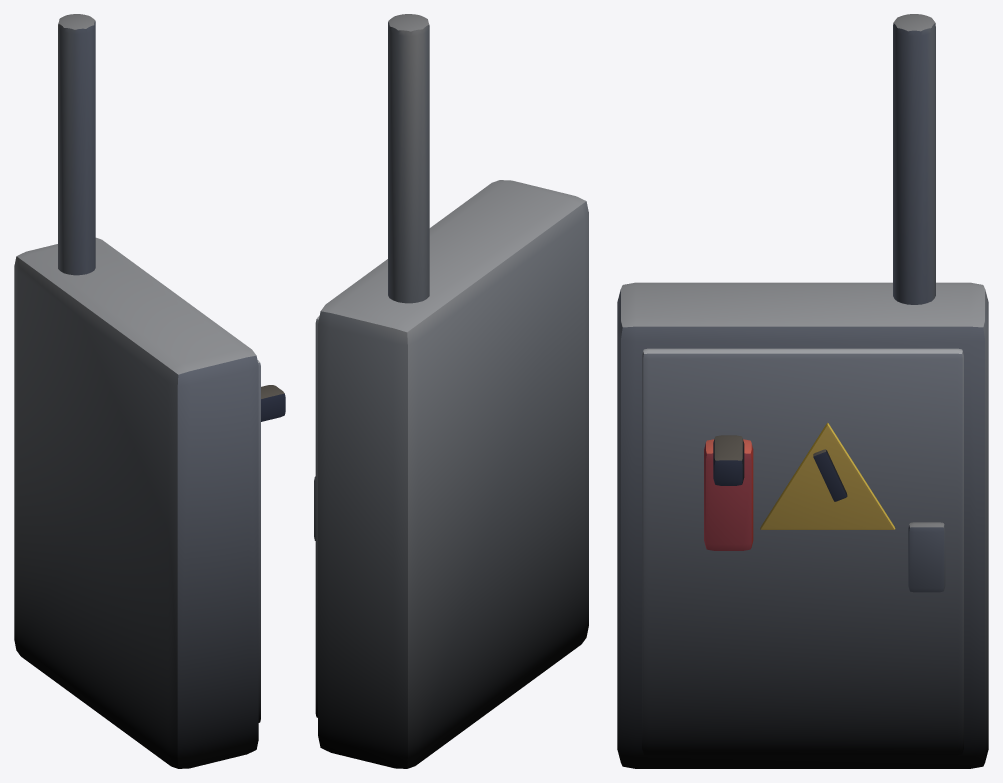
The model's file is Breaker.fbx.
3 views of the same model, side by side, from view 1: azimuth 30°, elevation 25°; view 2: azimuth 150°, elevation 25°; view 3: azimuth 270°, elevation 25° (orthographic). The views are drawn at different scales.
Visible parts, largest first — view 1: SM_Station_Breaker; view 2: SM_Station_Breaker; view 3: SM_Station_Breaker.
Part boxes in pixels (x1,y1,x2,y2): SM_Station_Breaker: [14, 14, 285, 768]; SM_Station_Breaker: [314, 14, 588, 768]; SM_Station_Breaker: [617, 14, 988, 768].
Size of the model in its own units: 1.6 by 6.45 by 3.
